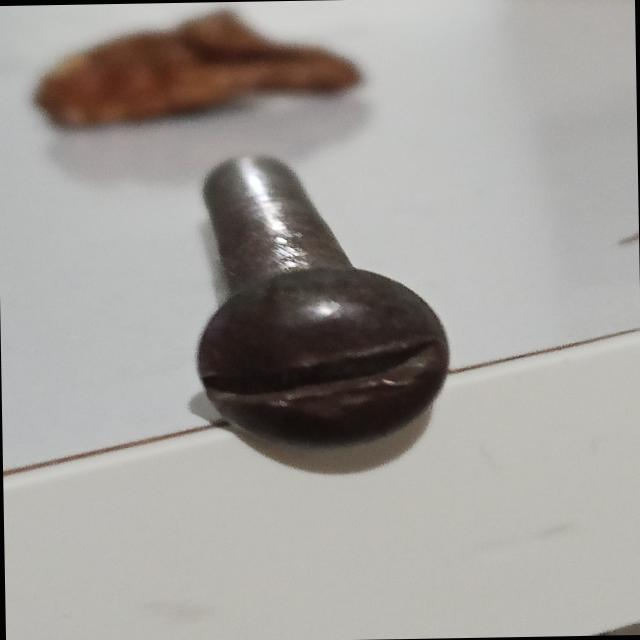Slotted: (157, 255, 478, 460)
